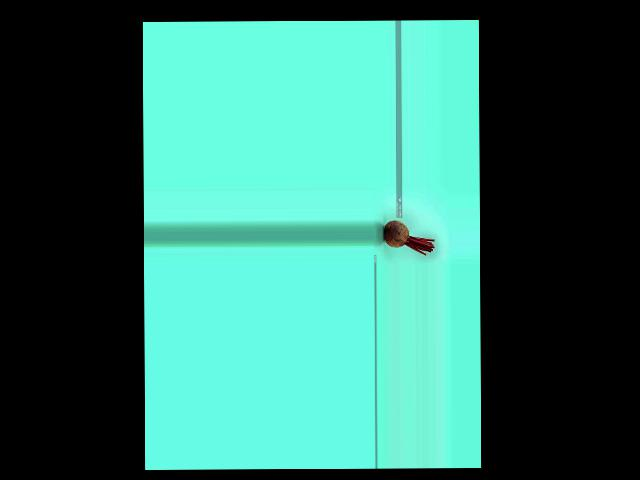beet: (383, 219, 433, 255)
